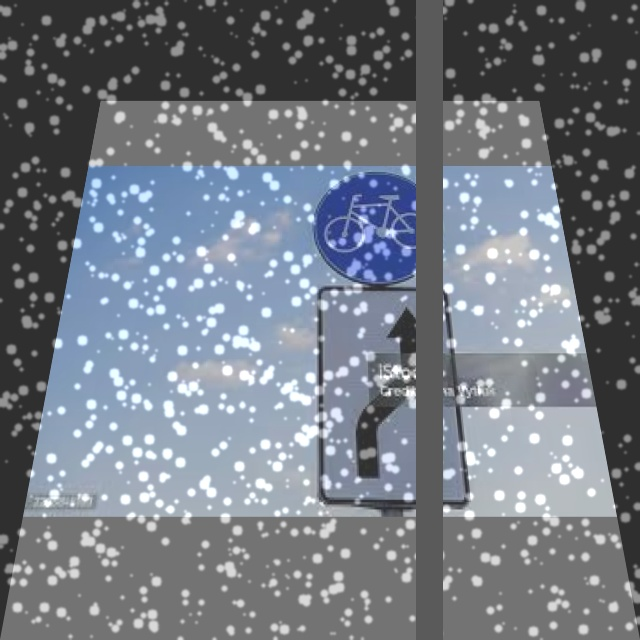Compulsory_Cycle_Track: (312, 172, 449, 283)
